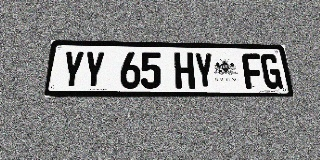5: (141, 52, 161, 89)
6: (120, 52, 141, 89)
F: (241, 54, 264, 89)
G: (260, 54, 283, 89)
H: (174, 52, 195, 89)
Y: (60, 51, 85, 89), (82, 51, 105, 89), (194, 53, 215, 89)
